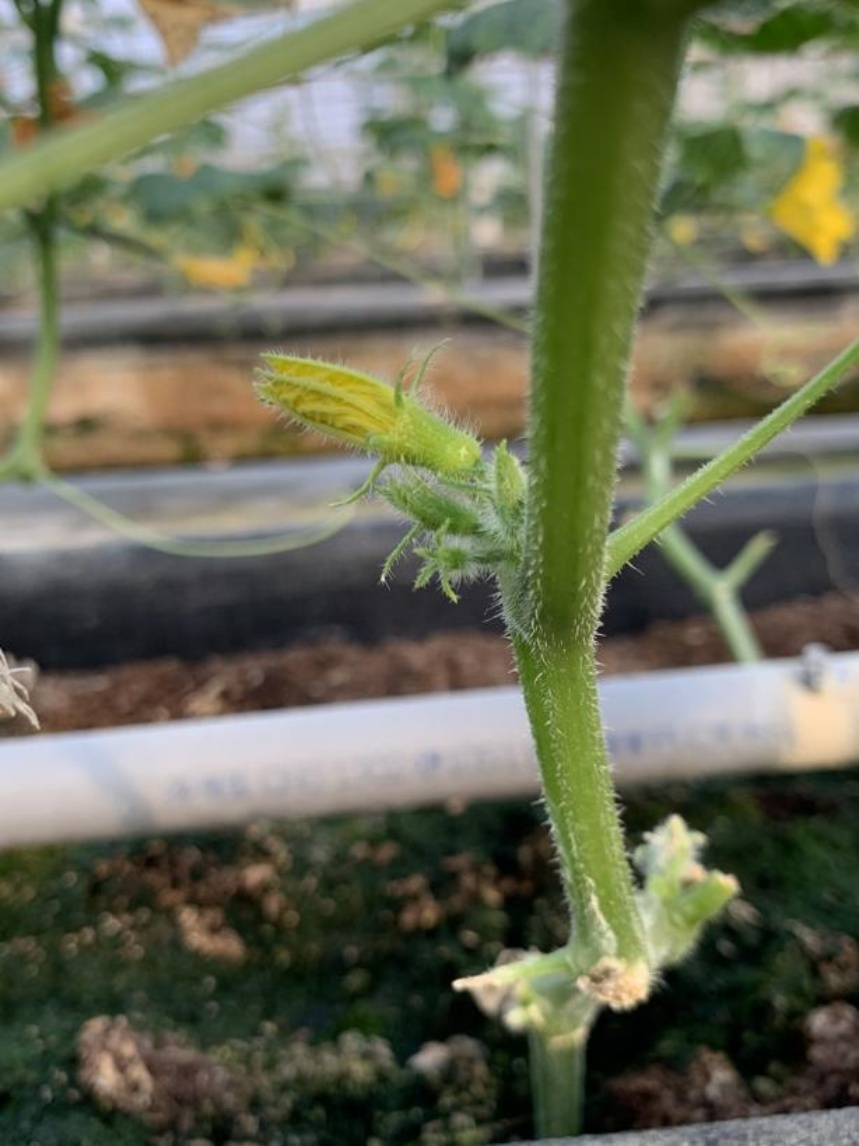bud: (246, 332, 465, 514)
